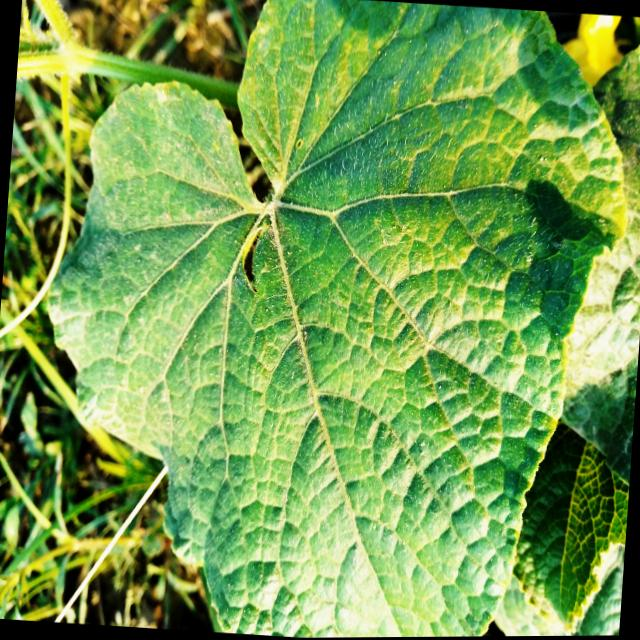Fresh-Leaf: (44, 0, 631, 638)
